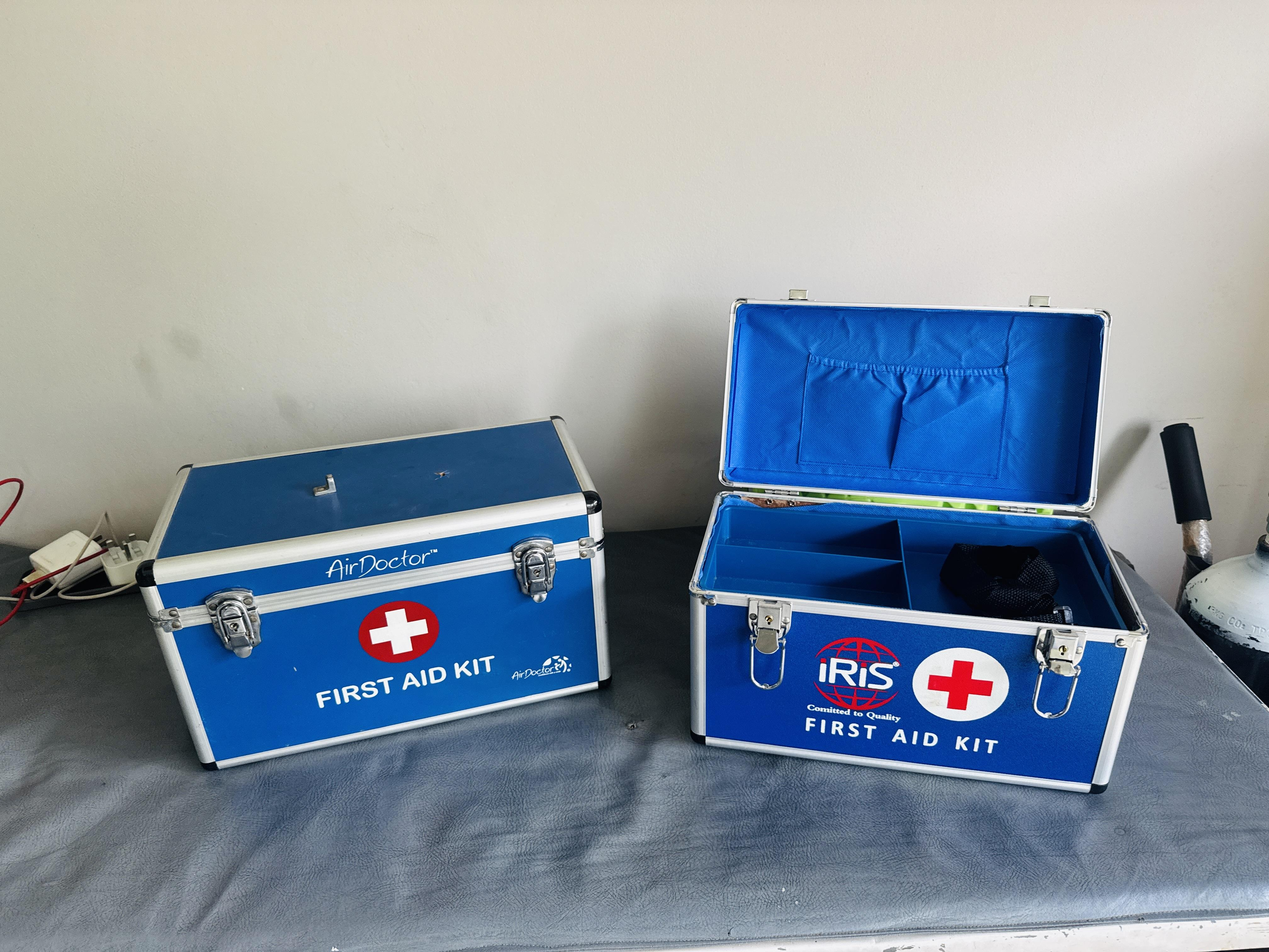FirstAidBox: (680, 276, 1156, 815), (110, 398, 637, 783)
